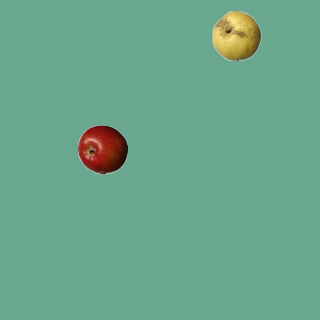Apple Braeburn: (77, 124, 127, 174)
Apple Golden 1: (211, 10, 261, 60)
